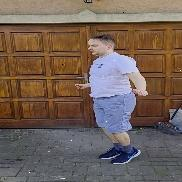jumping_jacks: (69, 33, 164, 181)
